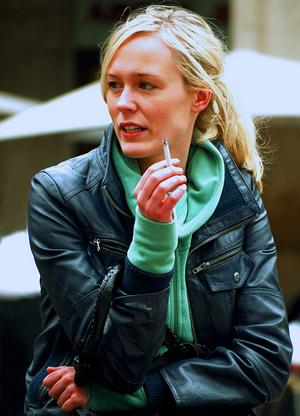person: (25, 7, 293, 416)
